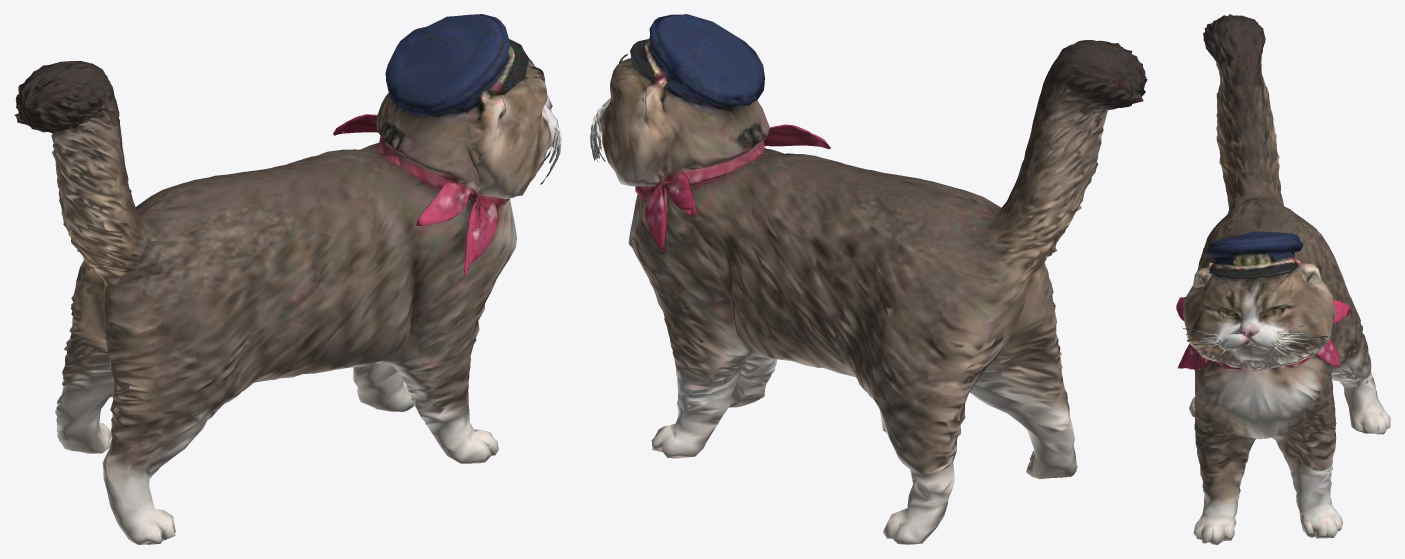
The model's file is AIZUSAKURA-lo.glb.
The picture shows the model from 3 angles, left to right: view 1: azimuth 30°, elevation 25°; view 2: azimuth 150°, elevation 25°; view 3: azimuth 270°, elevation 25°; orthographic projection. The views are drawn at different scales.
Parts seen in each view (by area): view 1: tripo_node_3bd3f04c-b3a3-4519-8bab-30fdad52660e; view 2: tripo_node_3bd3f04c-b3a3-4519-8bab-30fdad52660e; view 3: tripo_node_3bd3f04c-b3a3-4519-8bab-30fdad52660e.
Boxes of the visible parts, <box> form: tripo_node_3bd3f04c-b3a3-4519-8bab-30fdad52660e: <box>14,14,561,544</box>; tripo_node_3bd3f04c-b3a3-4519-8bab-30fdad52660e: <box>590,14,1147,544</box>; tripo_node_3bd3f04c-b3a3-4519-8bab-30fdad52660e: <box>1176,14,1390,544</box>.
Bounding box in the file's own units: 1.19 × 0.9971 × 0.5233.
Materials: 1 (1 with a texture image).
